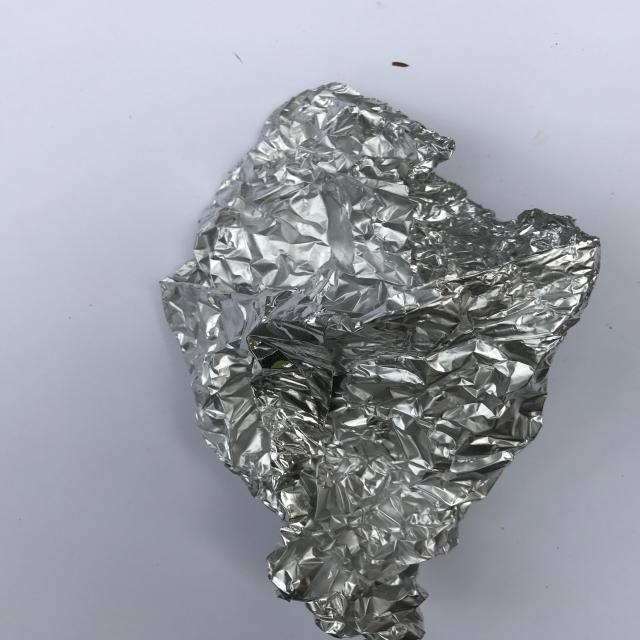metal: (159, 80, 602, 640)
